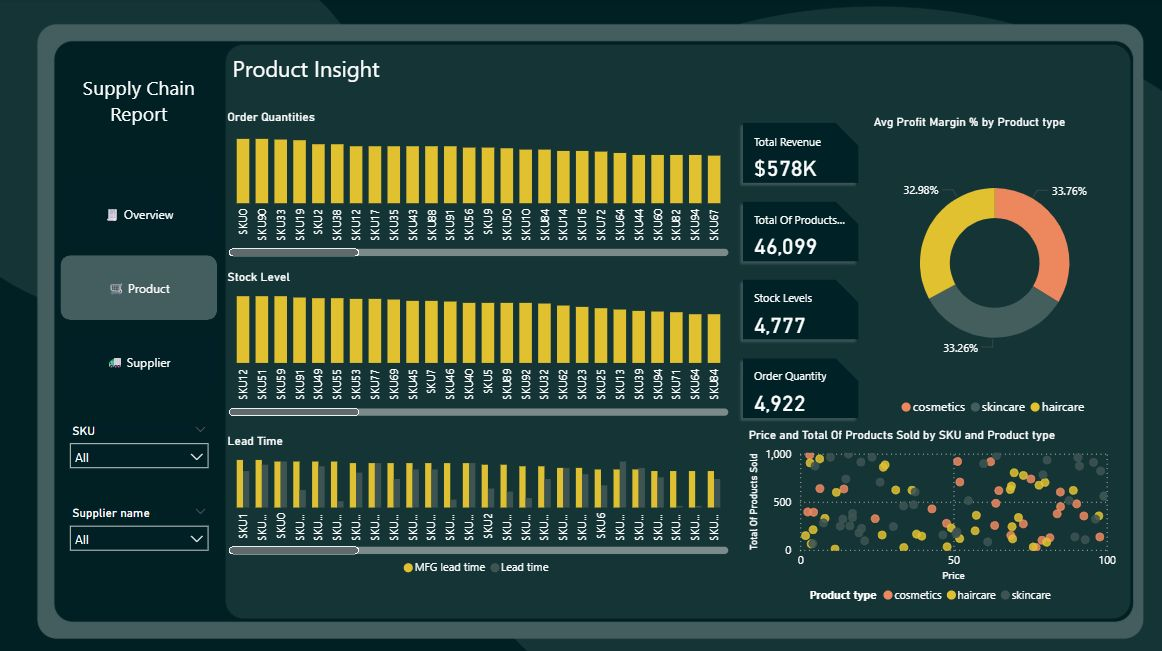

This screenshot's page, from the dashboard's own definition file:
{"tool":"powerbi","page":{"name":"🛒   Product","canvas":[1280,720],"ordinal":1},"visuals":[{"type":"columnChart","title":"Order Quantities","fields":{"Y":["_Measures.Order Quantity"],"Category":["supply_chain_data.SKU"]},"box":[247,123.6,560,165],"z":0},{"type":"columnChart","title":"Stock Level","fields":{"Y":["_Measures.Stock Levels"],"Category":["supply_chain_data.SKU"]},"box":[247,299.1,559.9,164.7],"z":1000},{"type":"clusteredColumnChart","title":"Lead Time","fields":{"Category":["supply_chain_data.SKU"],"Y":["Sum(supply_chain_data.MFG lead time)","Sum(supply_chain_data.Lead time)"]},"box":[247,478.9,559.9,164.7],"z":2000},{"type":"cardVisual","fields":{"Data":["_Measures.Total Revenue","_Measures.Total Of Products Sold","_Measures.Stock Levels","_Measures.Order Quantity"]},"box":[806.9,126.2,149.6,348.5],"z":3000},{"type":"donutChart","fields":{"Category":["supply_chain_data.Product type"],"Y":["_Measures.Avg Profit Margin %"]},"box":[956.4,129,275.8,338.9],"z":4000},{"type":"scatterChart","fields":{"Category":["supply_chain_data.SKU"],"X":["Sum(supply_chain_data.Price)"],"Y":["_Measures.Total Of Products Sold"],"Series":["supply_chain_data.Product type"]},"box":[819.2,472,413,201.7],"z":5000},{"type":"textbox","box":[252.5,56.3,204.5,61.7],"z":6000},{"type":"pageNavigator","box":[69.2,202.1,172.2,234.6],"z":7000},{"type":"slicer","fields":{"Values":["supply_chain_data.SKU"]},"box":[69.2,462.5,172.2,69.2],"z":8000},{"type":"slicer","fields":{"Values":["supply_chain_data.Supplier name"]},"box":[69.2,553.3,172.2,69.2],"z":9000},{"type":"textbox","box":[69.2,78.7,172.2,82.7],"z":10000}]}

Visuals, with their boxes in screenshot pixels (x1, y1, x2, y2), scaled from the page's 1280x720 canvas onto the 1162x651 screenshot:
"Order Quantities" columnChart: (x1=224, y1=112, x2=733, y2=261)
"Stock Level" columnChart: (x1=224, y1=270, x2=733, y2=419)
"Lead Time" clusteredColumnChart: (x1=224, y1=433, x2=733, y2=582)
cardVisual - _Measures.Total Revenue x _Measures.Total Of Products Sold: (x1=733, y1=114, x2=868, y2=429)
donutChart - supply_chain_data.Product type x _Measures.Avg Profit Margin %: (x1=868, y1=117, x2=1119, y2=423)
scatterChart - supply_chain_data.SKU x Sum(supply_chain_data.Price): (x1=744, y1=427, x2=1119, y2=609)
textbox: (x1=229, y1=51, x2=415, y2=107)
pageNavigator: (x1=63, y1=183, x2=219, y2=395)
slicer - supply_chain_data.SKU: (x1=63, y1=418, x2=219, y2=481)
slicer - supply_chain_data.Supplier name: (x1=63, y1=500, x2=219, y2=563)
textbox: (x1=63, y1=71, x2=219, y2=146)
